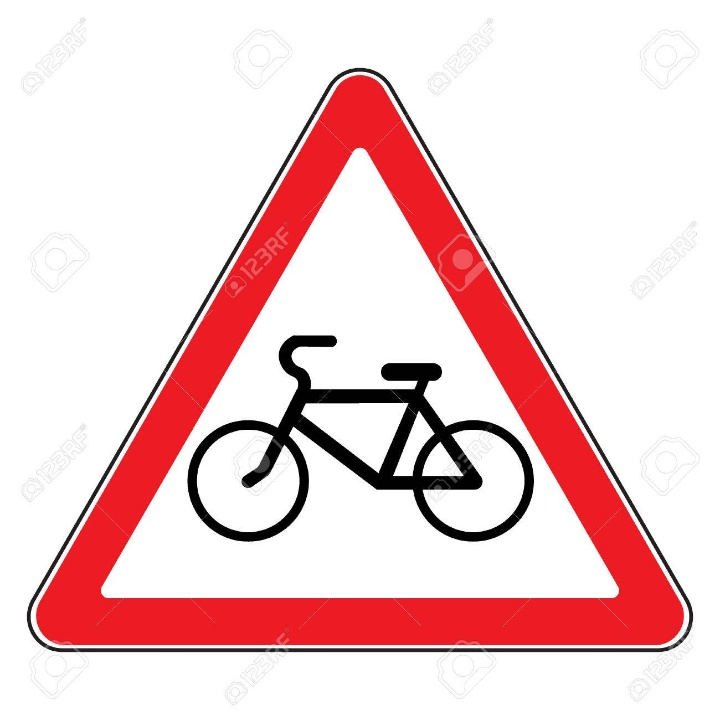bicycle: (30, 67, 690, 647)
